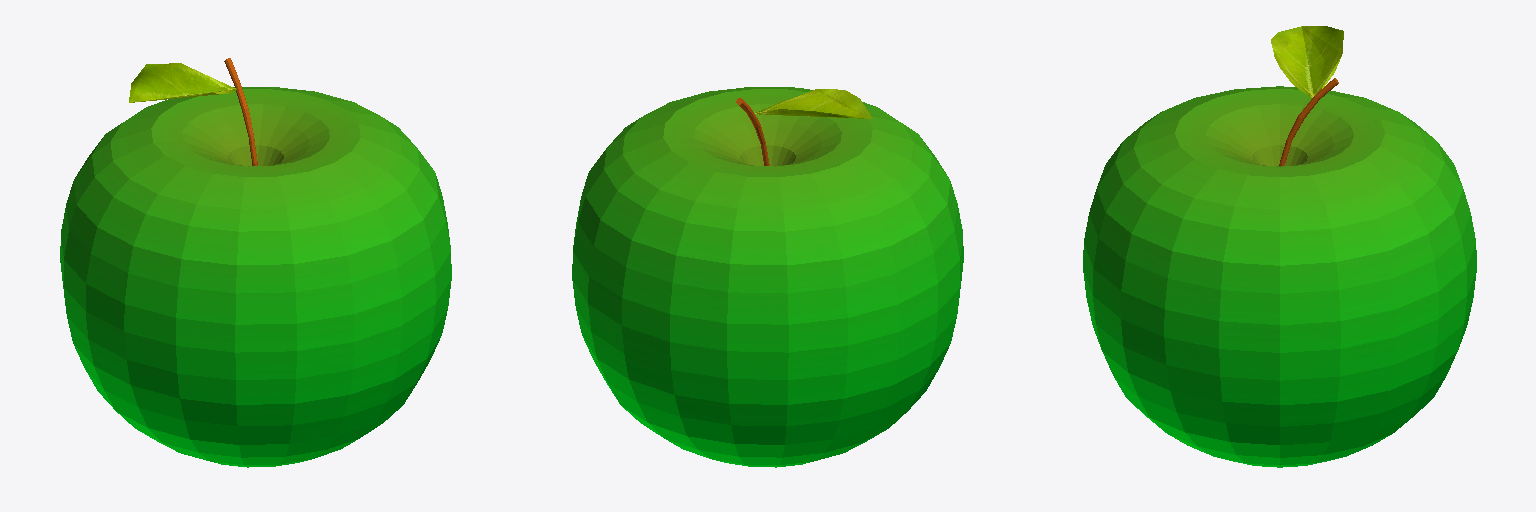
The picture shows the model from 3 angles: view 1: azimuth 30°, elevation 25°; view 2: azimuth 150°, elevation 25°; view 3: azimuth 270°, elevation 25°; orthographic projection.
Bounding box in the file's own units: 2.2 × 2.31 × 2.2.
1 materials, 1 textured.